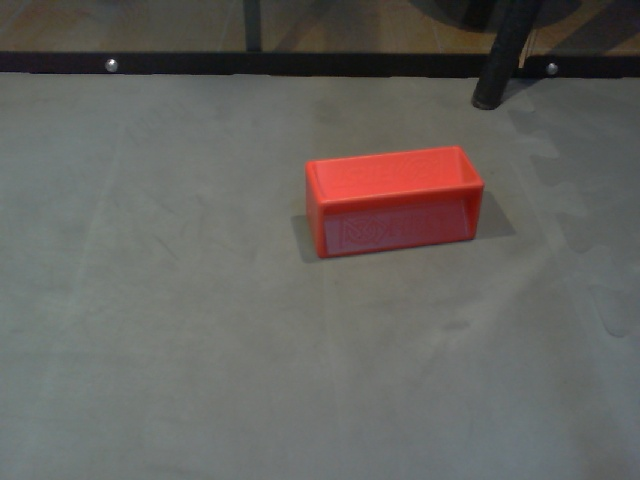RedSample: (303, 145, 484, 259)
